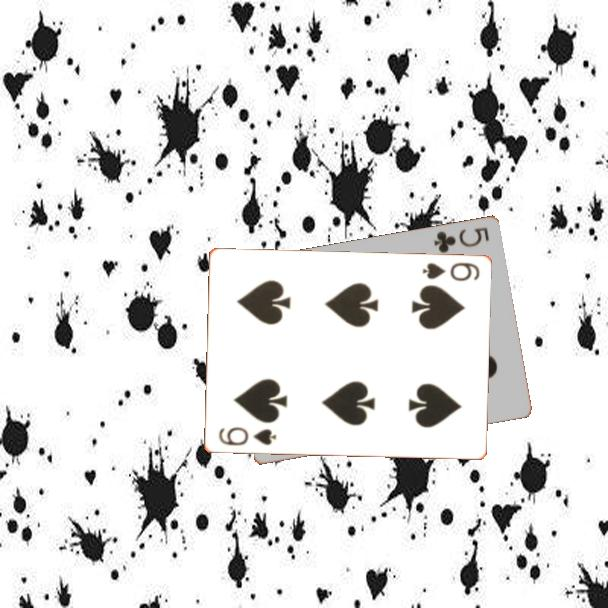c05: (430, 224, 492, 256)
s06: (215, 424, 279, 449), (419, 259, 482, 284)
